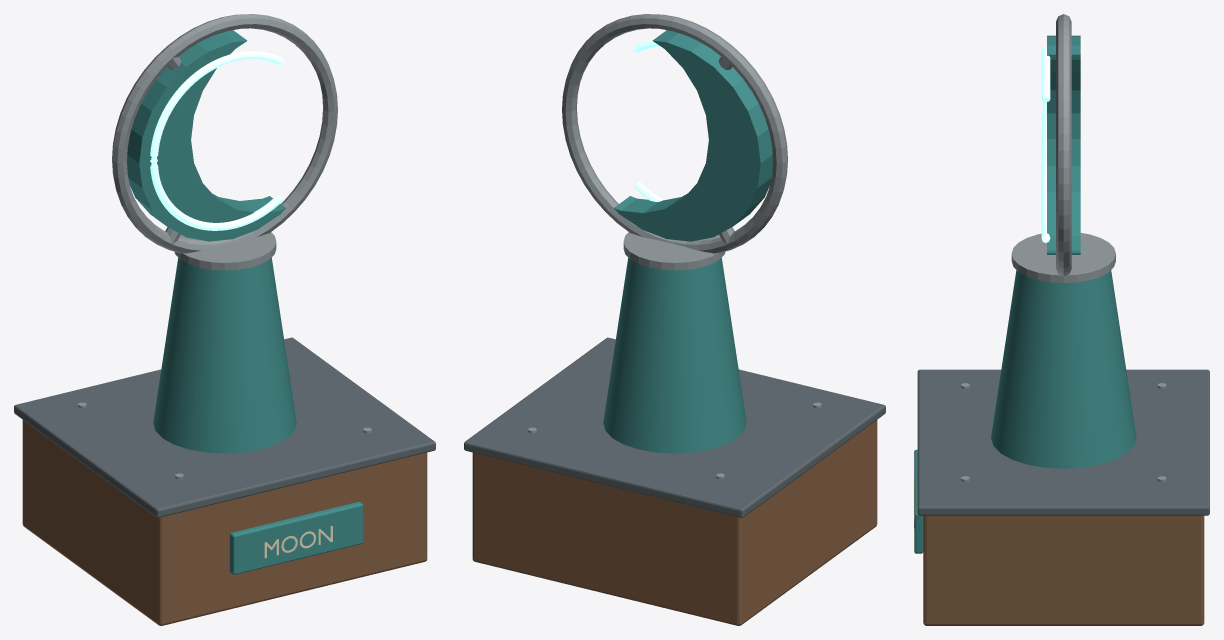
File: AH02_MoonTotem.fbx
The picture shows the model from 3 angles, left to right: view 1: azimuth 30°, elevation 25°; view 2: azimuth 150°, elevation 25°; view 3: azimuth 270°, elevation 25°; orthographic projection.
Parts seen in each view (by area): view 1: AH02_MoonTotem_AH02_Teal, AH02_MoonTotem_AH02_Wood, AH02_MoonTotem_AH02_MetalDark, AH02_MoonTotem_AH02_Metal, AH02_MoonTotem_AH02_MintGlow; view 2: AH02_MoonTotem_AH02_Wood, AH02_MoonTotem_AH02_Teal, AH02_MoonTotem_AH02_MetalDark, AH02_MoonTotem_AH02_Metal; view 3: AH02_MoonTotem_AH02_Wood, AH02_MoonTotem_AH02_MetalDark, AH02_MoonTotem_AH02_Teal, AH02_MoonTotem_AH02_Metal, AH02_MoonTotem_AH02_MintGlow.
Boxes of the visible parts, x1=… form: AH02_MoonTotem_AH02_Teal: x1=127, y1=30, x2=363, y2=574; AH02_MoonTotem_AH02_Wood: x1=22, y1=420, x2=427, y2=625; AH02_MoonTotem_AH02_MetalDark: x1=14, y1=337, x2=435, y2=517; AH02_MoonTotem_AH02_Metal: x1=78, y1=14, x2=371, y2=478; AH02_MoonTotem_AH02_MintGlow: x1=150, y1=51, x2=283, y2=230; AH02_MoonTotem_AH02_Wood: x1=472, y1=420, x2=877, y2=625; AH02_MoonTotem_AH02_Teal: x1=603, y1=30, x2=772, y2=453; AH02_MoonTotem_AH02_MetalDark: x1=464, y1=337, x2=885, y2=517; AH02_MoonTotem_AH02_Metal: x1=528, y1=14, x2=821, y2=478; AH02_MoonTotem_AH02_Wood: x1=923, y1=515, x2=1204, y2=625; AH02_MoonTotem_AH02_MetalDark: x1=917, y1=369, x2=1209, y2=515; AH02_MoonTotem_AH02_Teal: x1=914, y1=35, x2=1136, y2=553; AH02_MoonTotem_AH02_Metal: x1=961, y1=14, x2=1166, y2=481; AH02_MoonTotem_AH02_MintGlow: x1=1041, y1=47, x2=1050, y2=242.
Size of the model in its own units: 146 by 263 by 132.
